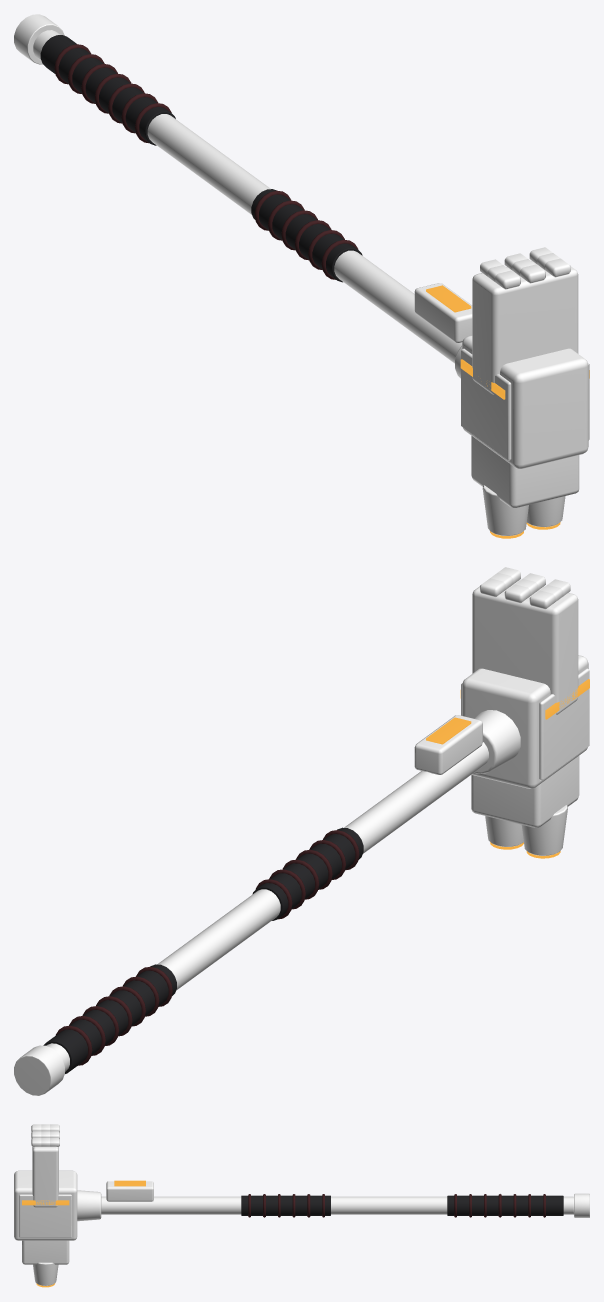
Rendered from hammer.glb.
The picture shows the model from 3 angles, top to bottom: view 1: azimuth 30°, elevation 25°; view 2: azimuth 150°, elevation 25°; view 3: azimuth 270°, elevation 25°; orthographic projection. The views are drawn at different scales.
Parts seen in each view (by area): view 1: head_face, head_core, haft, head_back, haft_grip, head_plate, haft_grip.001, power_cell, thruster, pommel, thruster.001; view 2: head_face, haft, head_core, head_back, haft_grip, head_plate, haft_grip.001, power_cell, pommel, collar, thruster, thruster.001; view 3: haft, haft_grip, head_plate.001, head_core, head_face, haft_grip.001, head_back, power_cell, collar, thruster.001, pommel, warn_strip.001.
Part boxes in pixels (box(x1,y1,x2,y2)): head_face: box(472, 261, 578, 394); head_core: box(462, 335, 588, 468); haft: box(33, 30, 462, 363); head_back: box(471, 436, 579, 507); haft_grip: box(40, 35, 175, 145); head_plate: box(461, 348, 511, 460); haft_grip.001: box(251, 189, 362, 282); power_cell: box(414, 283, 472, 342); thruster: box(482, 485, 528, 535); pommel: box(14, 14, 64, 64); thruster.001: box(527, 496, 565, 527); head_face: box(472, 580, 578, 714); haft: box(46, 742, 488, 1071); head_core: box(462, 655, 588, 788); head_back: box(471, 756, 579, 827); haft_grip: box(43, 964, 176, 1073); head_plate: box(539, 668, 589, 780); haft_grip.001: box(252, 827, 363, 920); power_cell: box(414, 715, 482, 774); pommel: box(14, 1045, 64, 1095); collar: box(474, 710, 520, 773); thruster: box(521, 805, 567, 855); thruster.001: box(485, 816, 523, 846); haft: box(101, 1196, 573, 1214); haft_grip: box(447, 1195, 563, 1215); head_plate.001: box(19, 1194, 71, 1237); head_core: box(14, 1170, 77, 1240); head_face: box(32, 1146, 58, 1207); haft_grip.001: box(241, 1195, 330, 1215); head_back: box(22, 1240, 69, 1264); power_cell: box(106, 1181, 153, 1201); collar: box(77, 1190, 101, 1221); thruster.001: box(33, 1262, 58, 1285); pommel: box(574, 1193, 589, 1217); warn_strip.001: box(22, 1200, 69, 1205).
Bounding box in the file's own units: 0.104 × 0.304 × 1.09.
